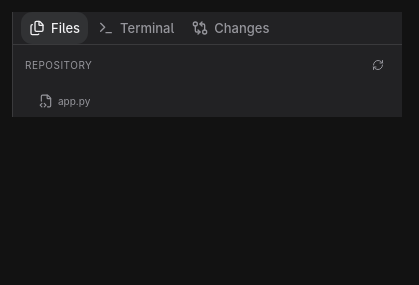
Test: does not allow an unreadable or binary file to be saved over
Click the button "app.py": [74, 101] box [13,85,402,117]
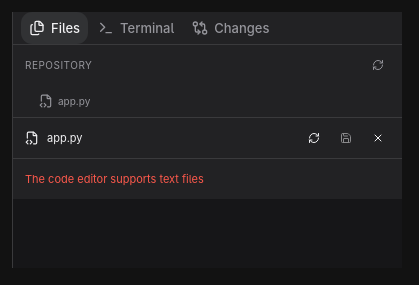
Expected: the text box named "Edit app.py" is disabled, [13,199,402,268]
Expected: the message shows "text files", [25,172,204,186]
Expected: the button named "Save file" is disabled, [334,126,358,150]
